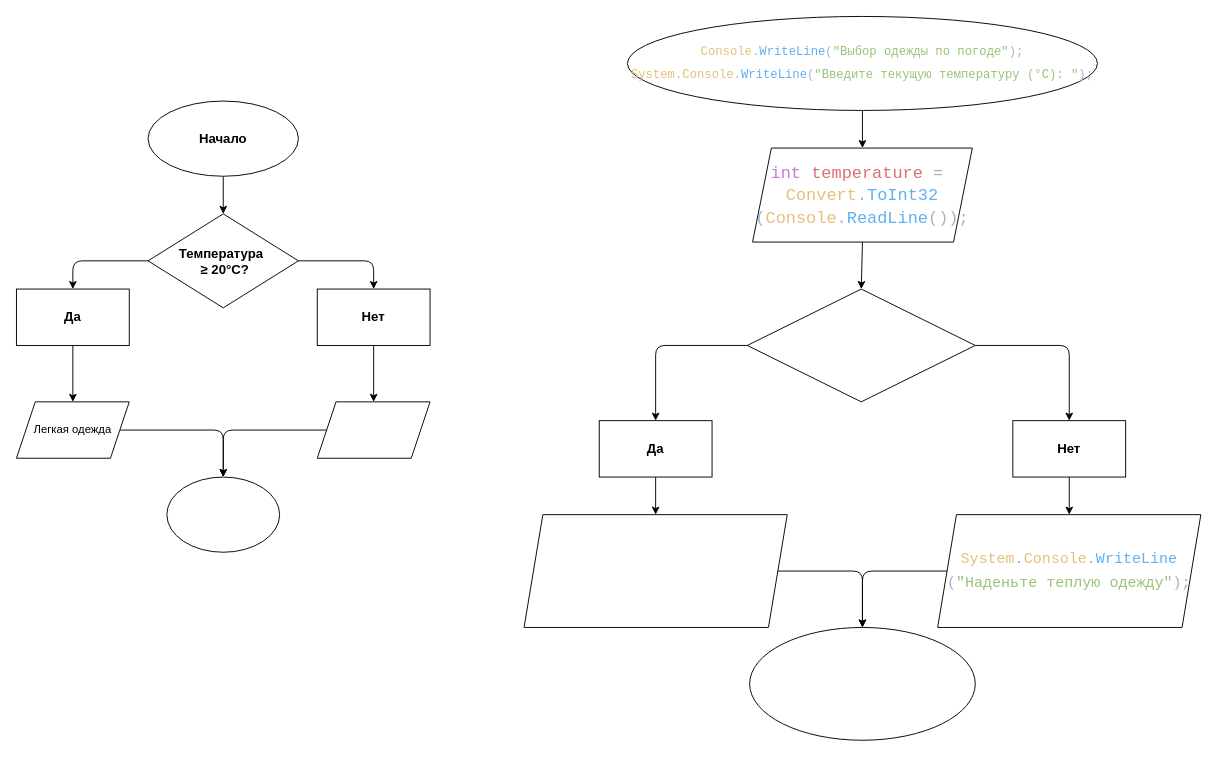
Some shapes in this 1217 by 757 pixel diagram are drawn without their labels. Here are the shapes that lost their labels. From the top down, the centre of each, then its label:
the point at 860,345: if ( temperature >= 20 )
the point at 373,429: Теплая одежда
the point at 223,514: Конец
the point at 655,570: System . Console . WriteLine ( "Наденьте легкую одежду" );
the point at 862,683: System . Console . WriteLine ( "Хорошего дня!" );
